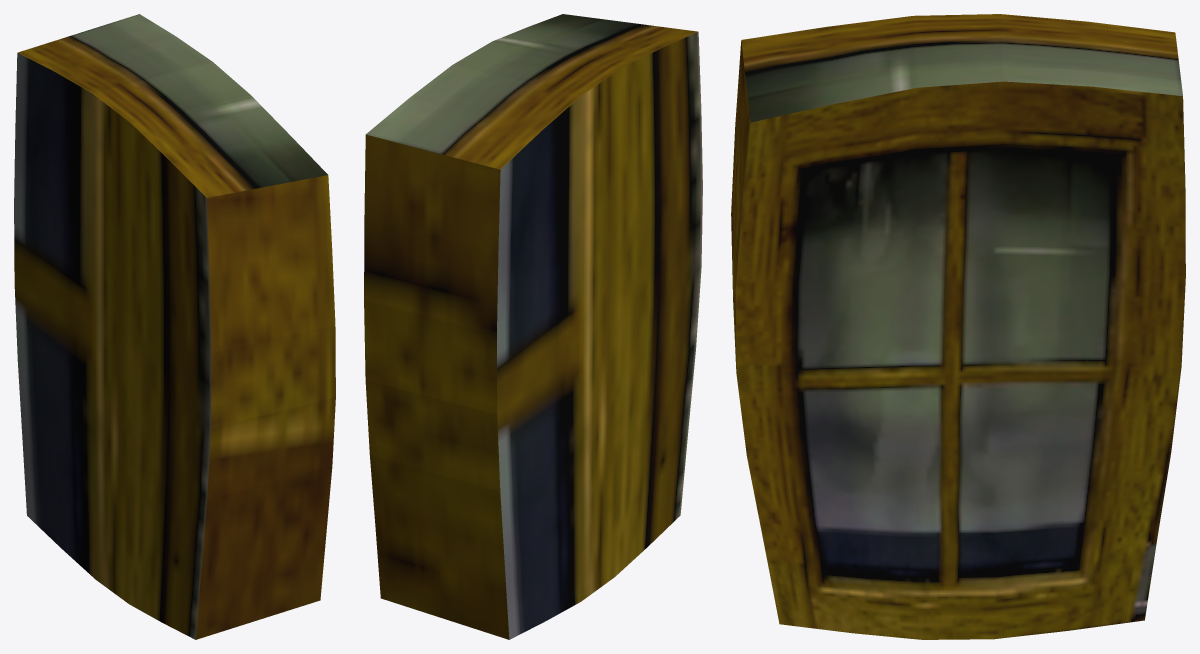
File: Window2 .fbx
3 views of the same model, side by side, from view 1: azimuth 30°, elevation 25°; view 2: azimuth 150°, elevation 25°; view 3: azimuth 270°, elevation 25° (orthographic). The views are drawn at different scales.
Parts seen in each view (by area): view 1: окно.002; view 2: окно.002; view 3: окно.002.
Boxes of the visible parts, <box> form: окно.002: <box>14,14,335,639</box>; окно.002: <box>364,14,702,639</box>; окно.002: <box>731,14,1185,639</box>.
Size of the model in its own units: 69.82 by 247 by 182.
